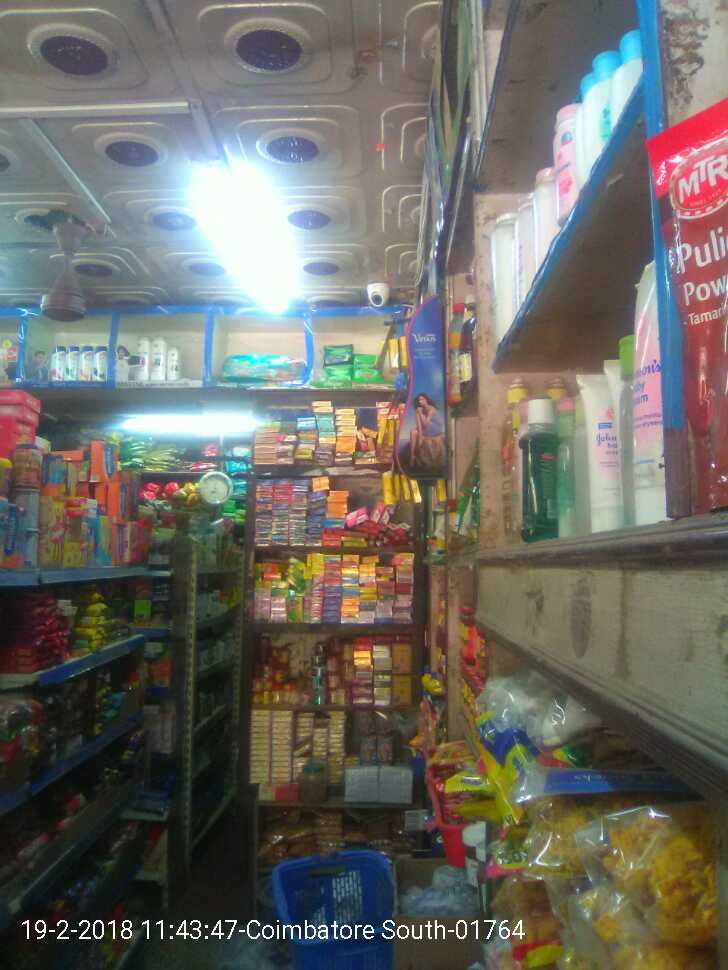reject: (270, 422, 407, 594)
